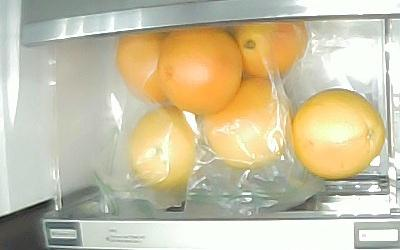grapefruit: (292, 89, 385, 179), (157, 27, 243, 115)
grapefruit_vinyl: (205, 78, 293, 168), (129, 106, 197, 192), (235, 19, 308, 79), (116, 32, 168, 103)
